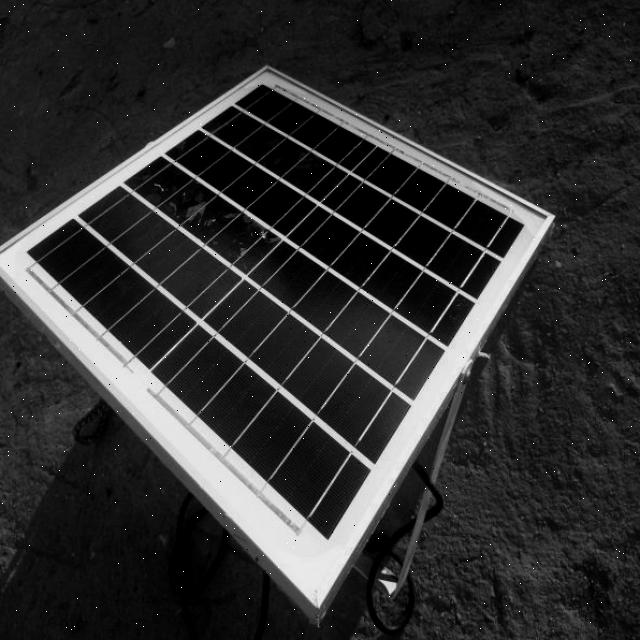Normal Solar Panel: (0, 67, 558, 607)
